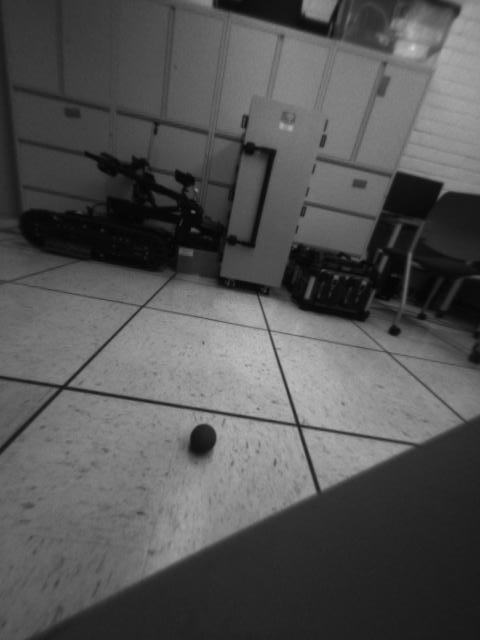dogtoy: (182, 414, 224, 463)
